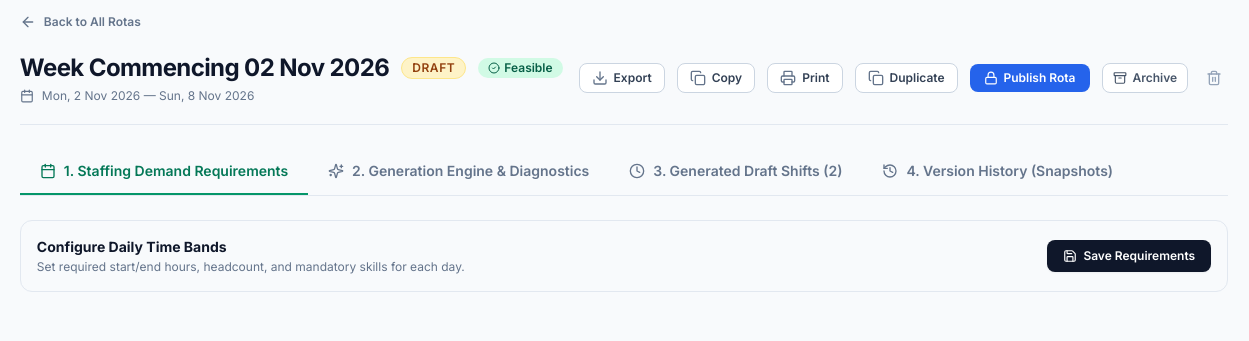
Test: Milestone 7 Frontend - Exports, History, Clipboard & Lifecycle › copies TSV formatted schedule to clipboard and announces to screen readers
Expected: the heading "Week Commencing 02 Nov 2026" is shown, [20,52,389,84]
// Click Copy button
Click the button "Copy" at {"x": 716, "y": 78}, box [677,63,755,93]
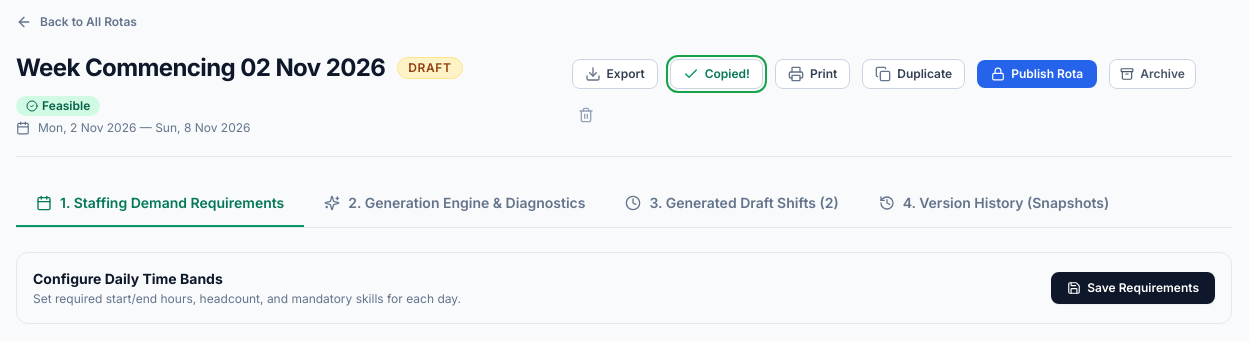
Now the text "Copied!" is shown, box [705,66,750,82]
